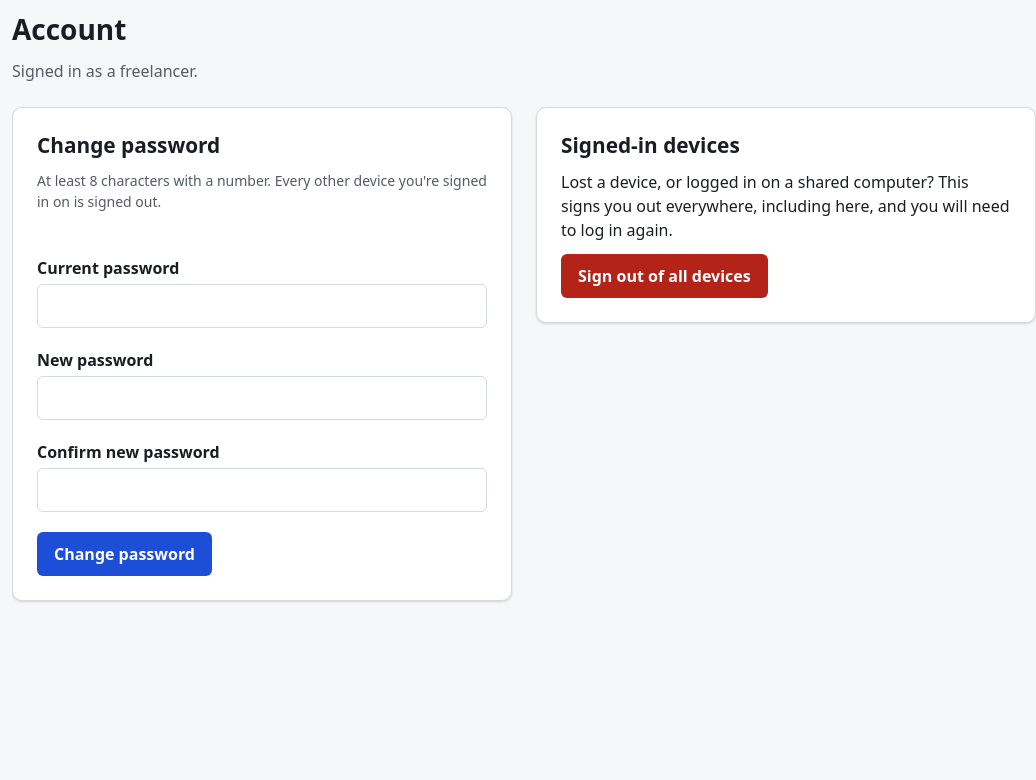
Test case: Account page - change password › shows inline errors and sends nothing when the form is invalid
Click the button "Change password" at (124, 554), box [37,532,212,576]
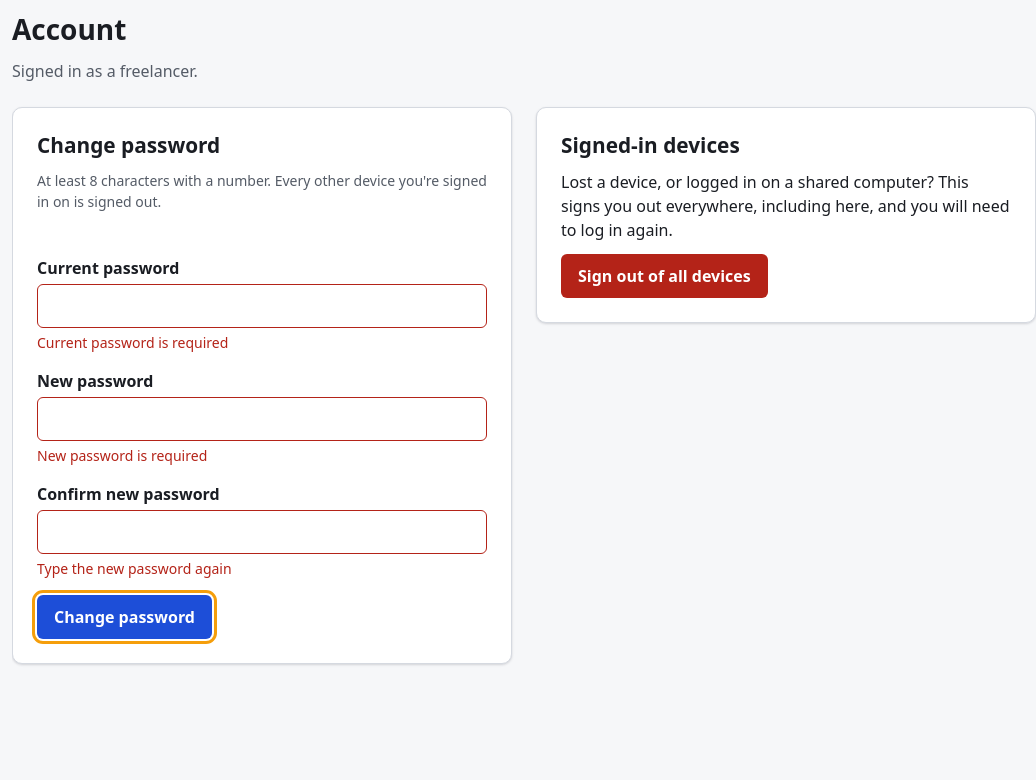
Expected: the text "Current password is required" is shown, [37,333,228,352]
Expected: the text "New password is required" is shown, [37,446,207,465]
Type "OldPassword1" into the password field labelled "Current password" at (262, 306), box [37,284,487,328]
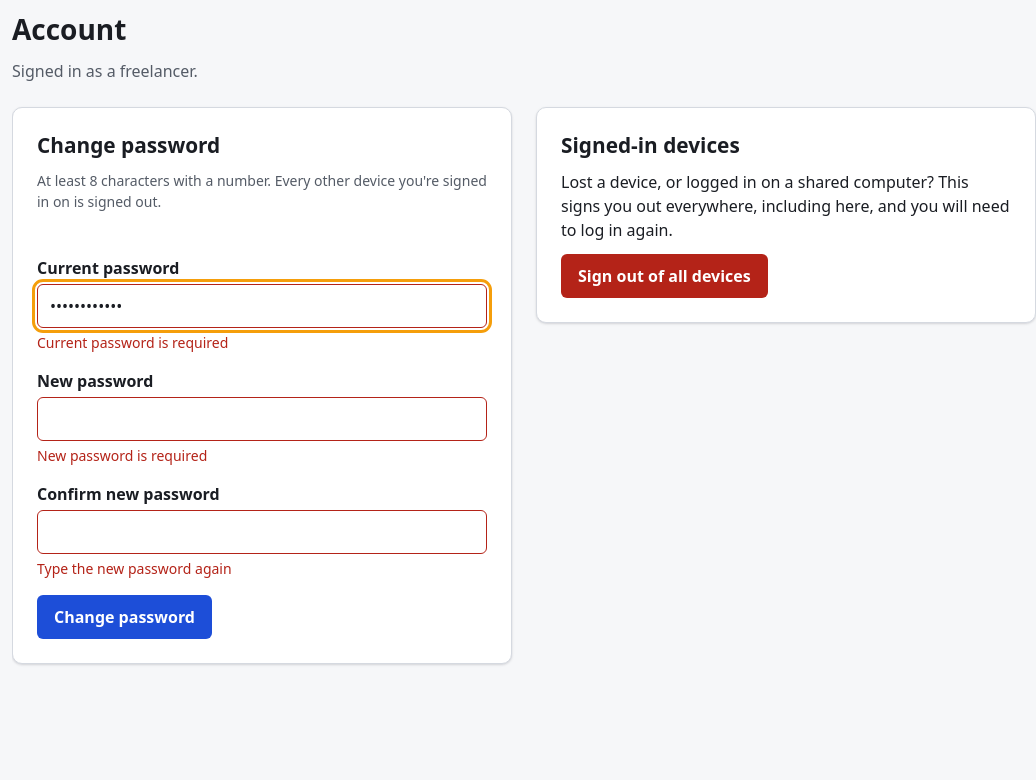
Type "short" into the password field labelled "New password" at (262, 419), box [37,397,487,441]
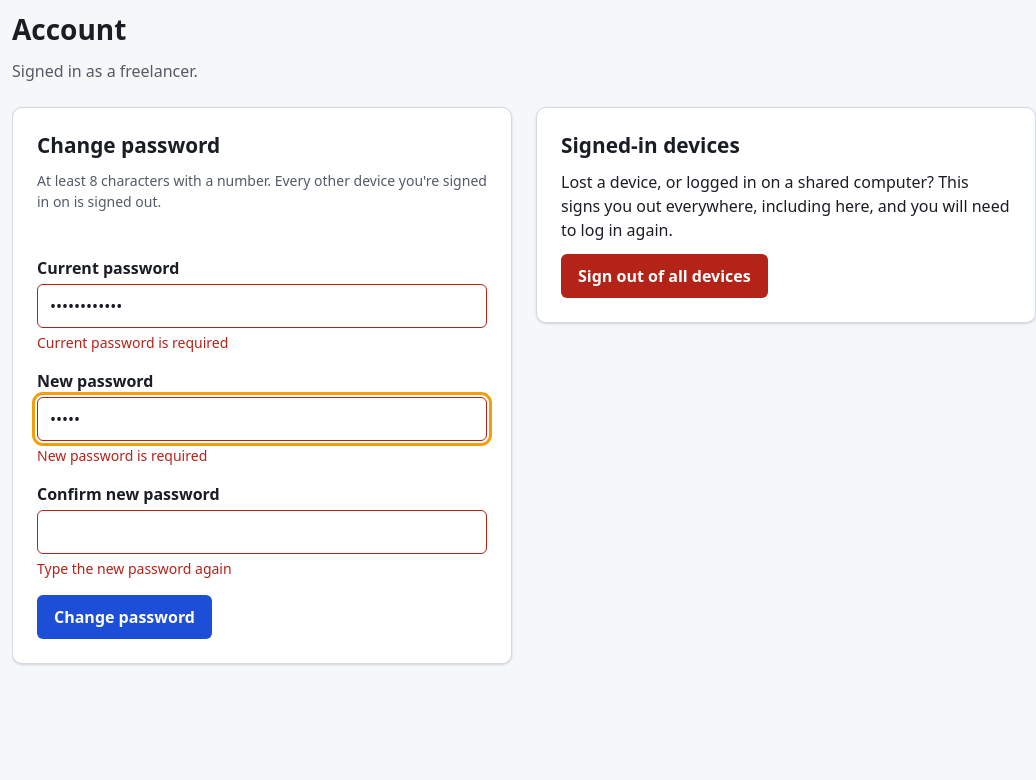
Type "other" into the password field labelled "Confirm new password" at (262, 532), box [37,510,487,554]
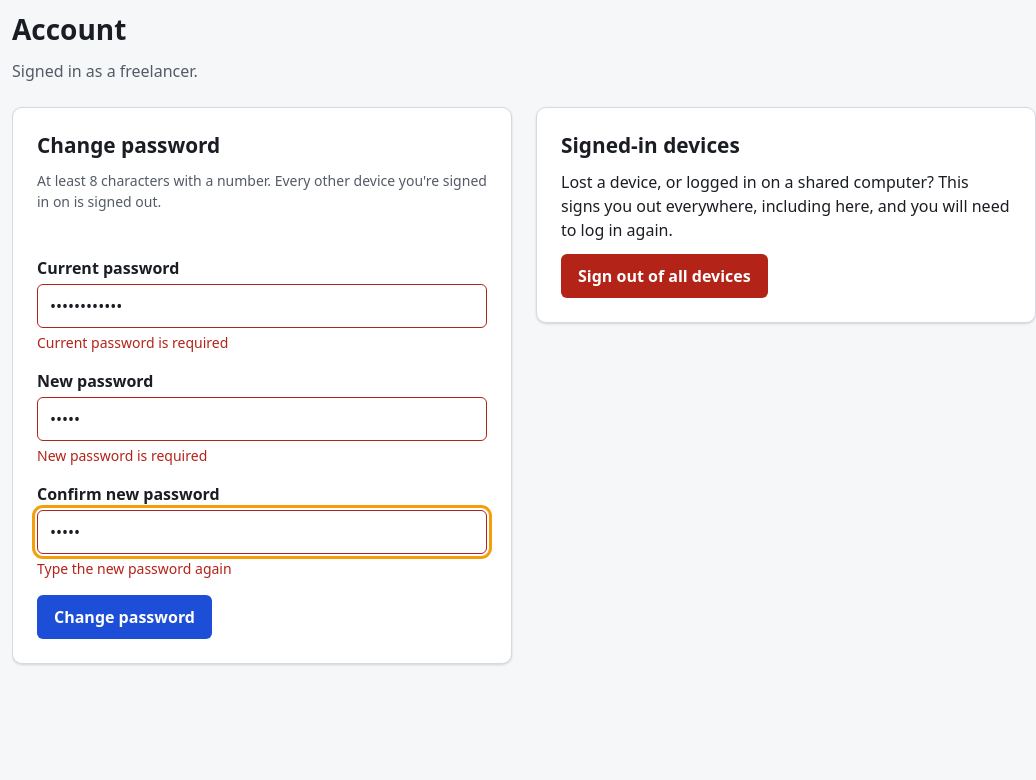
Click the button "Change password" at (124, 617), box [37,595,212,639]
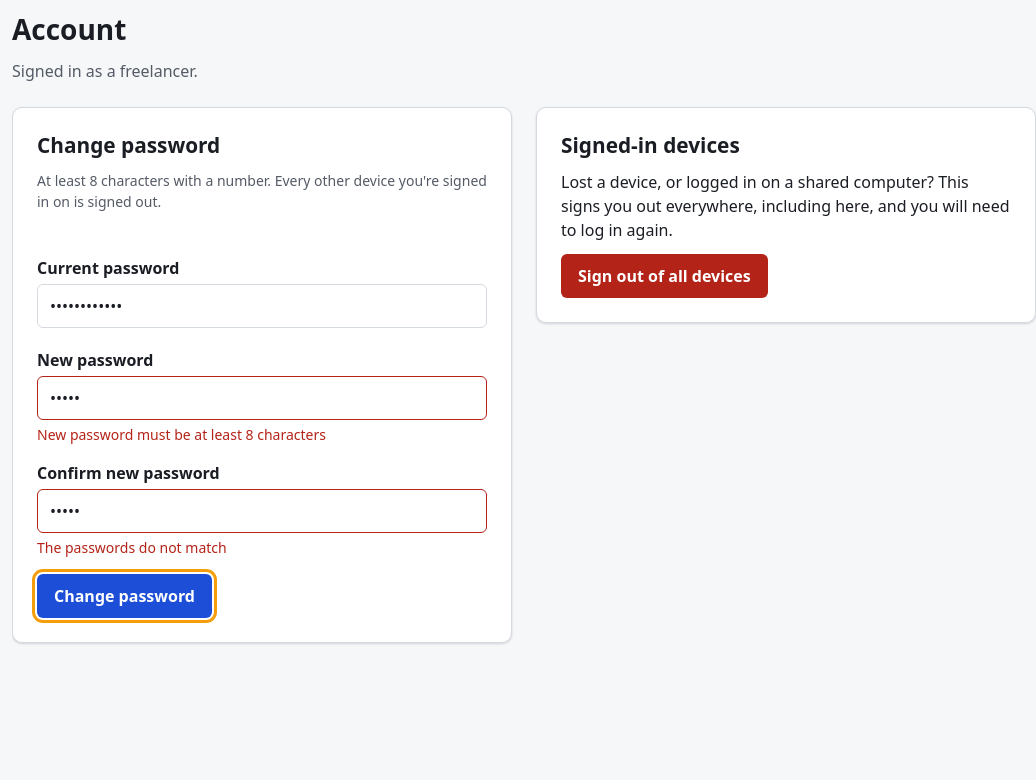
Expected: the text "New password must be at least 8 characters" is shown, [37,425,326,444]
Expected: the text "The passwords do not match" is shown, [37,538,227,557]
